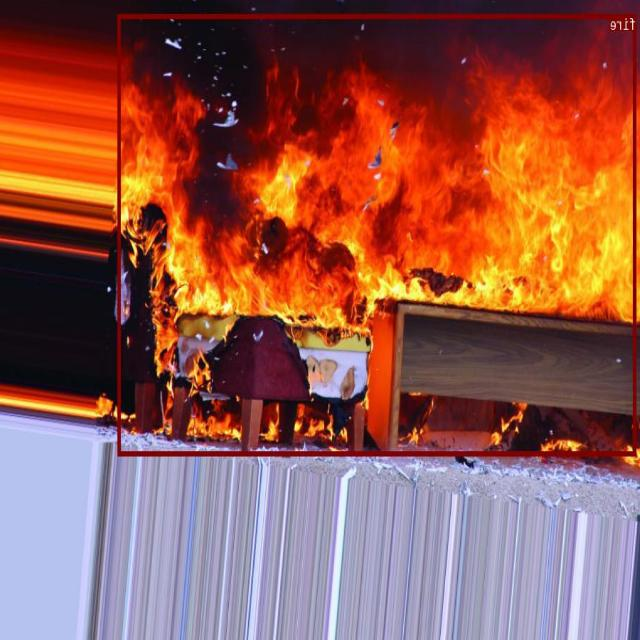fire: (118, 13, 637, 455)
